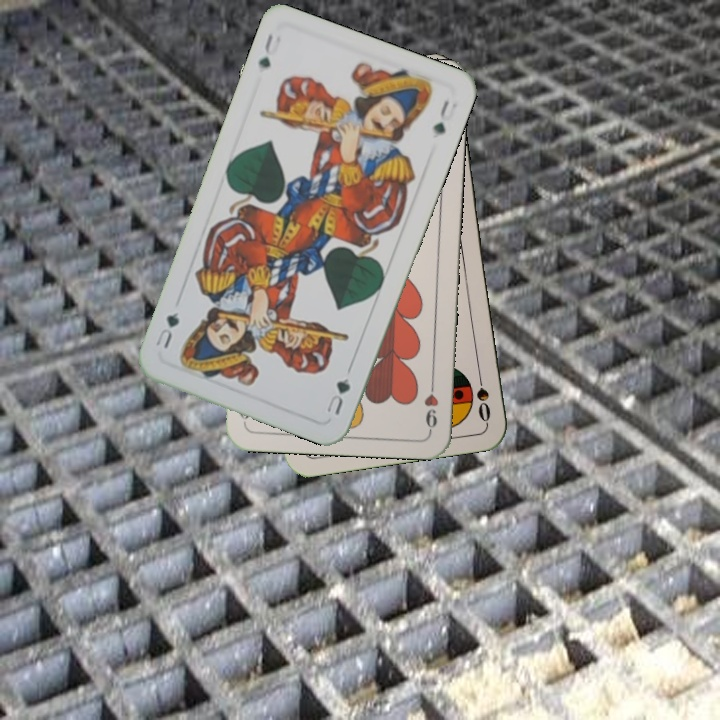GU: (321, 374, 353, 418), (254, 29, 276, 71)
H9: (420, 374, 441, 433)
SO: (472, 365, 493, 425)
